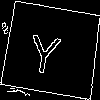Y: (26, 24, 64, 75)
